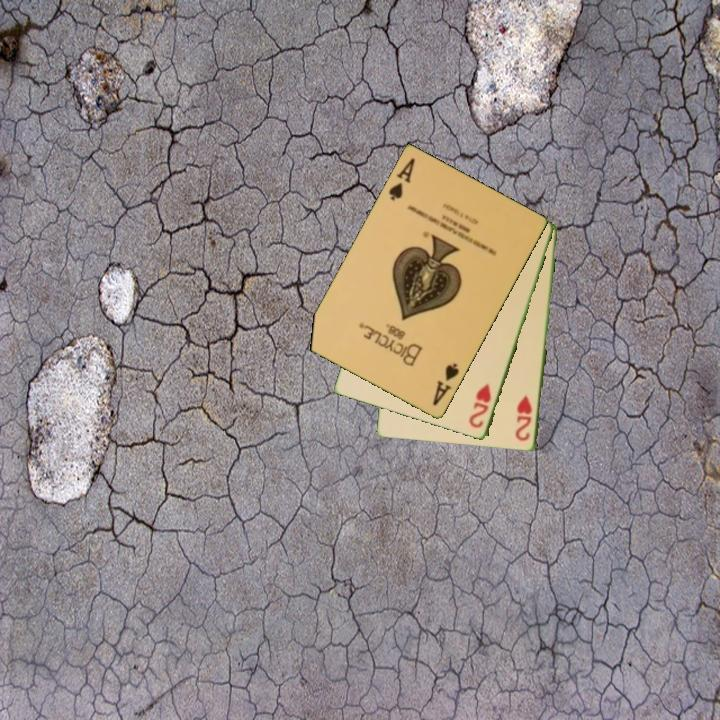2h: (466, 380, 494, 432), (512, 392, 535, 444)
As: (429, 360, 462, 409), (385, 155, 418, 204)
